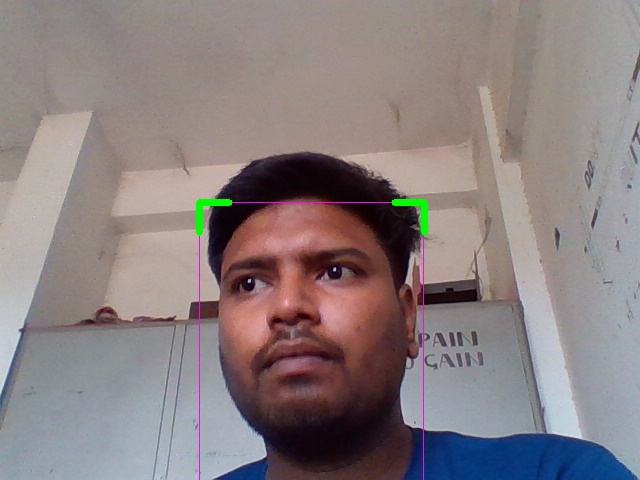real: (199, 202, 424, 480)
